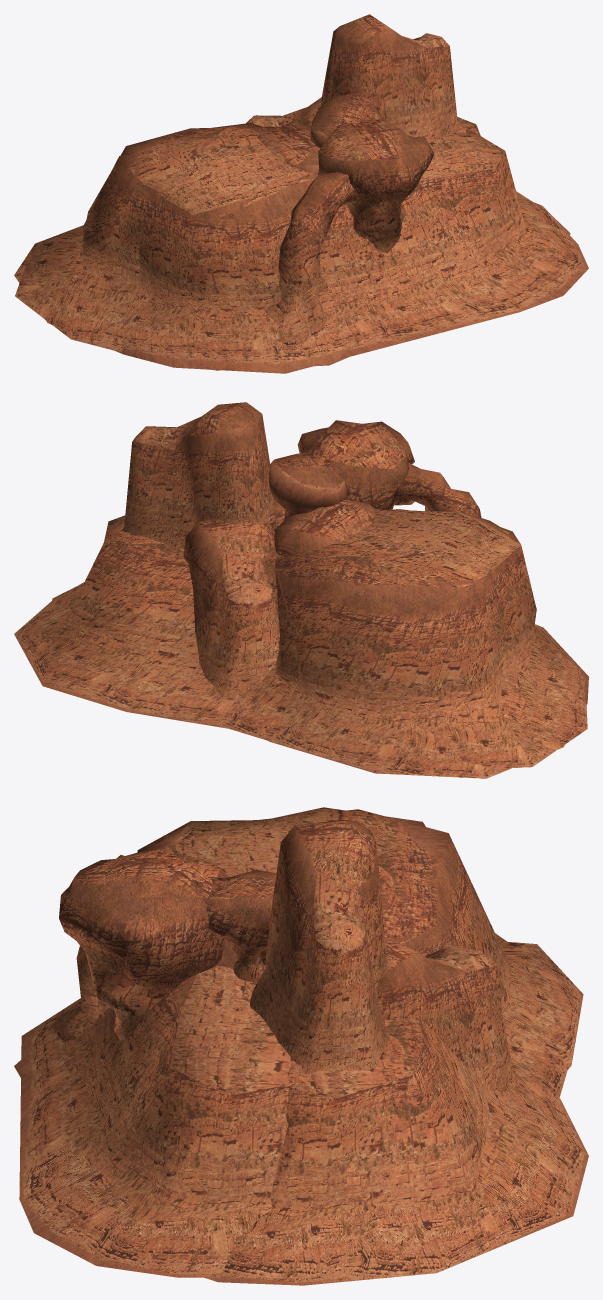
File: cliffs_all.FBX
3 renders of one model, top to bottom at view 1: azimuth 30°, elevation 25°; view 2: azimuth 150°, elevation 25°; view 3: azimuth 270°, elevation 25°, orthographic. The views are drawn at different scales.
Visible parts, largest first — view 1: prop_cliff_B, prop_cliff_A, prop_cliff_ARCH, prop_cliff_C; view 2: prop_cliff_A, prop_cliff_B, prop_cliff_ARCH, prop_cliff_C; view 3: prop_cliff_A, prop_cliff_B, prop_cliff_ARCH.
Part boxes in pixels (x1=…): prop_cliff_B: x1=14, y1=126, x2=588, y2=373; prop_cliff_A: x1=15, y1=14, x2=570, y2=370; prop_cliff_ARCH: x1=246, y1=94, x2=434, y2=345; prop_cliff_C: x1=257, y1=122, x2=316, y2=167; prop_cliff_A: x1=14, y1=402, x2=587, y2=768; prop_cliff_B: x1=52, y1=509, x2=588, y2=778; prop_cliff_ARCH: x1=183, y1=420, x2=481, y2=702; prop_cliff_C: x1=268, y1=499, x2=377, y2=555; prop_cliff_A: x1=14, y1=807, x2=588, y2=1285; prop_cliff_B: x1=19, y1=809, x2=583, y2=1278; prop_cliff_ARCH: x1=52, y1=849, x2=530, y2=1091.
Bounding box in the file's own units: 3734 × 1767 × 2554.
Materials: 1 (1 with a texture image).
